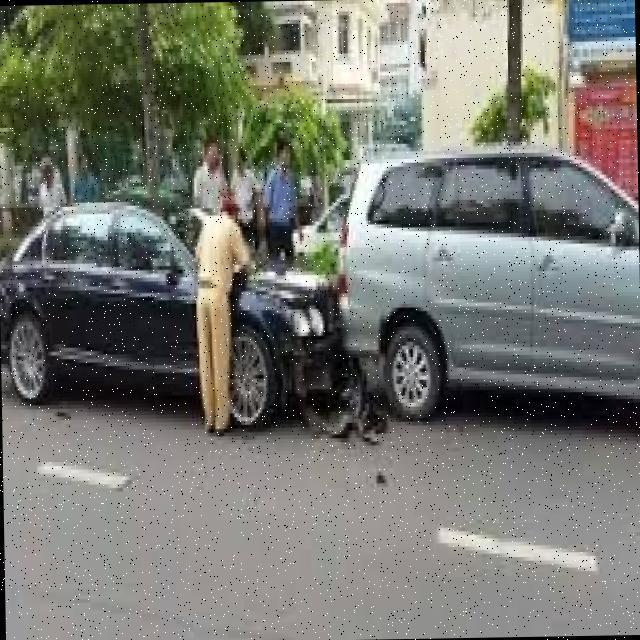accident: (245, 173, 429, 472)
